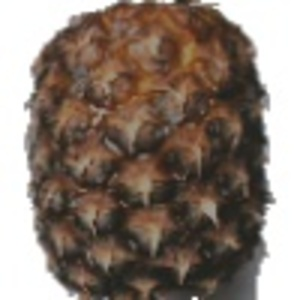abacaxi: (16, 1, 278, 299)
